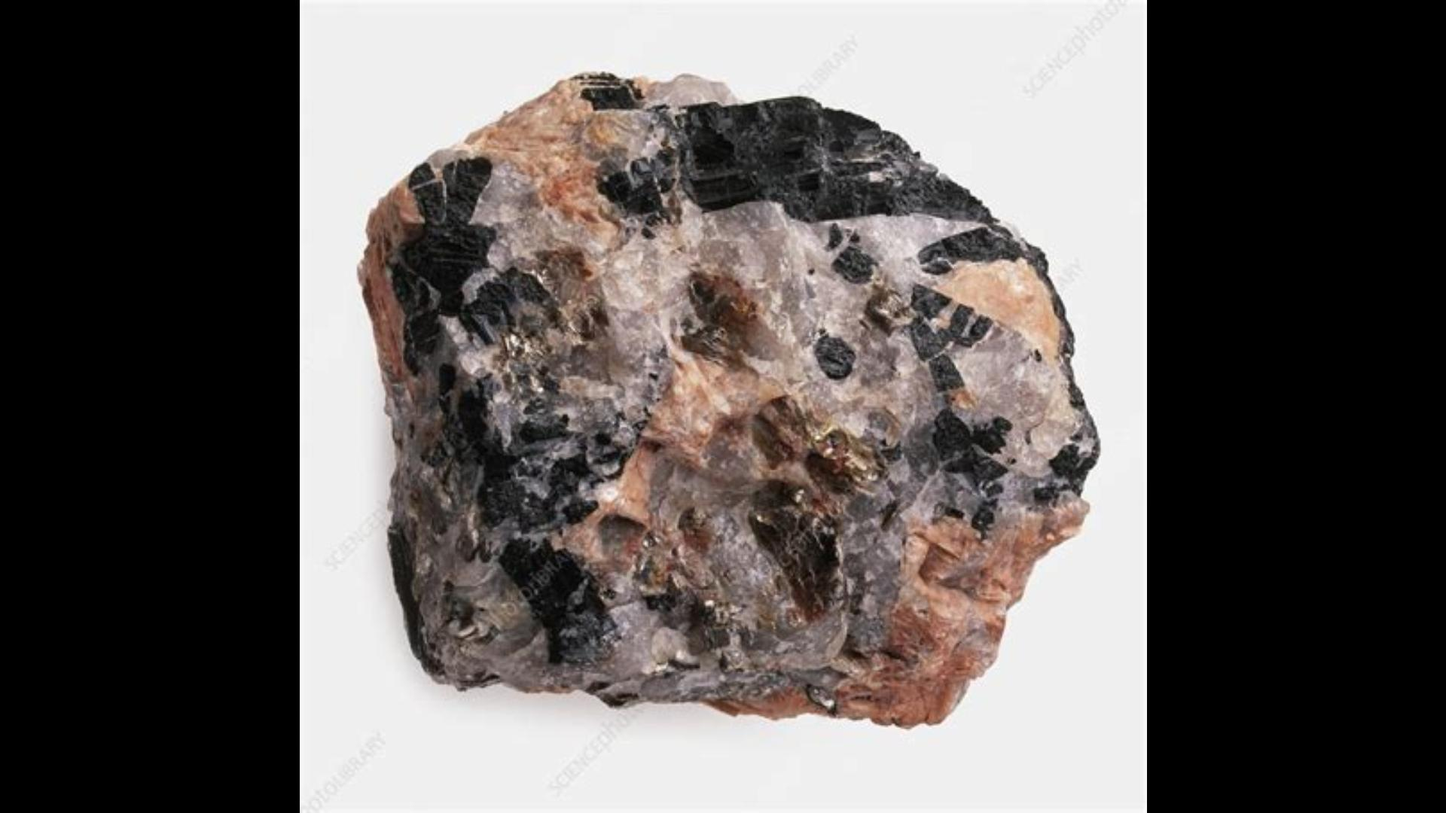rock: (362, 77, 1096, 718)
